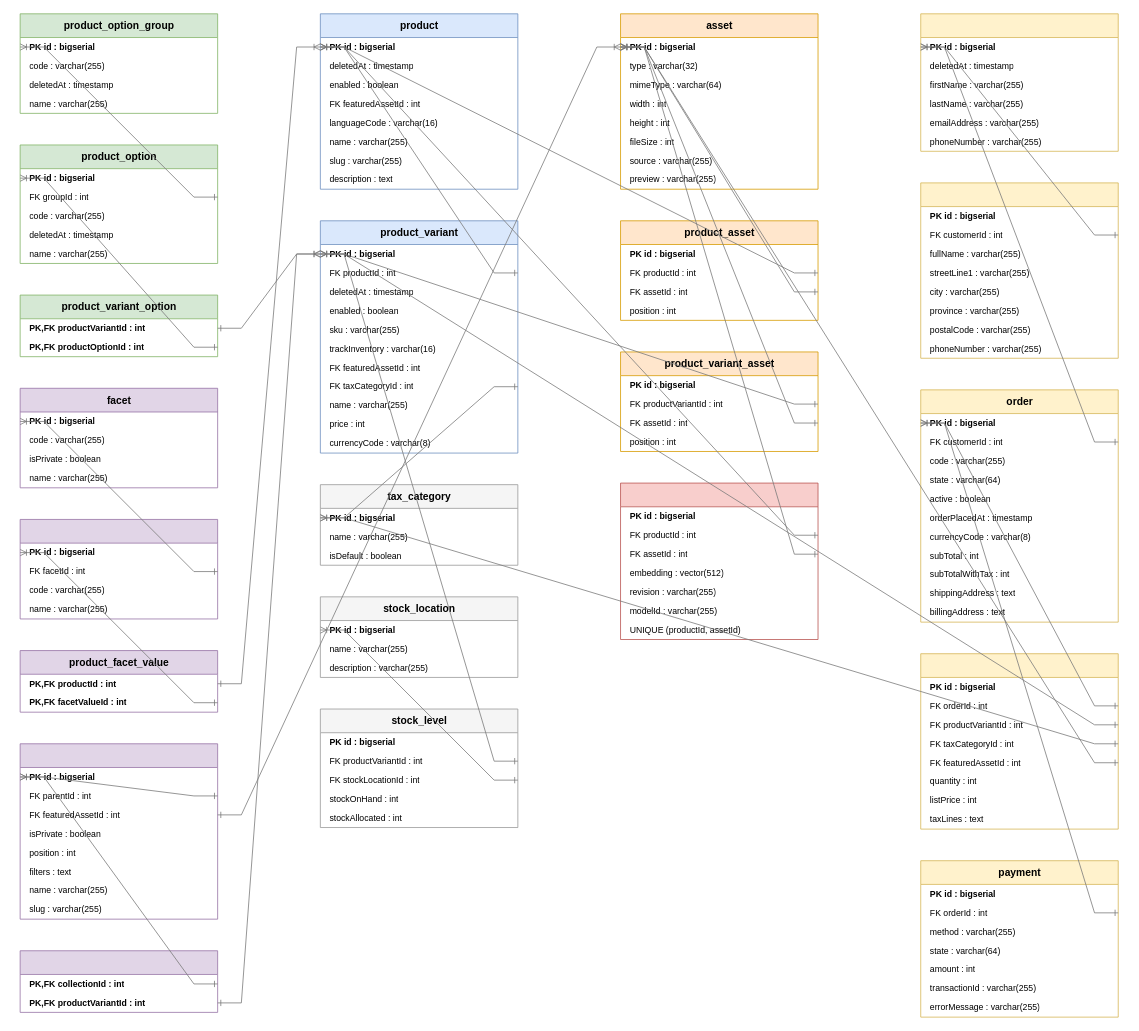
Some shapes in this 1139 by 1031 pixel diagram are drawn without their labels. Each missing label, with the box of its shape:
address: (920, 182, 1118, 358)
collection: (19, 743, 218, 919)
collection_product_variant: (19, 950, 218, 1012)
customer: (920, 13, 1118, 151)
facet_value: (19, 519, 218, 619)
order_line: (920, 653, 1118, 829)
product_asset_embedding: (620, 482, 818, 640)
